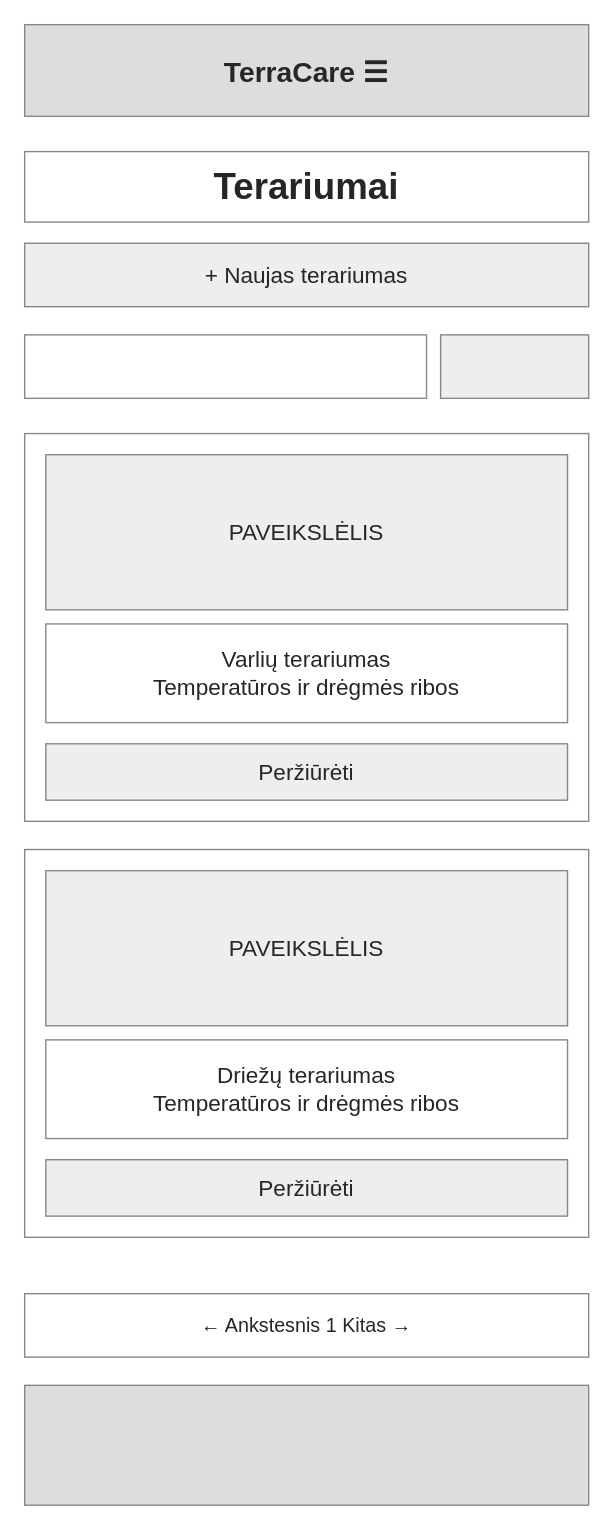
The diagram is 613 pixels wide and 1530 high, and some of its shapes have lost their labels. The shapes that lost their labels are listed below. From the top down, each one's centre as x and y in pixels, then its label:
point (225, 365): Paieška…
point (514, 365): Ieškoti
point (306, 1444): TerraCare Terariumų priežiūra API dokumentacija
